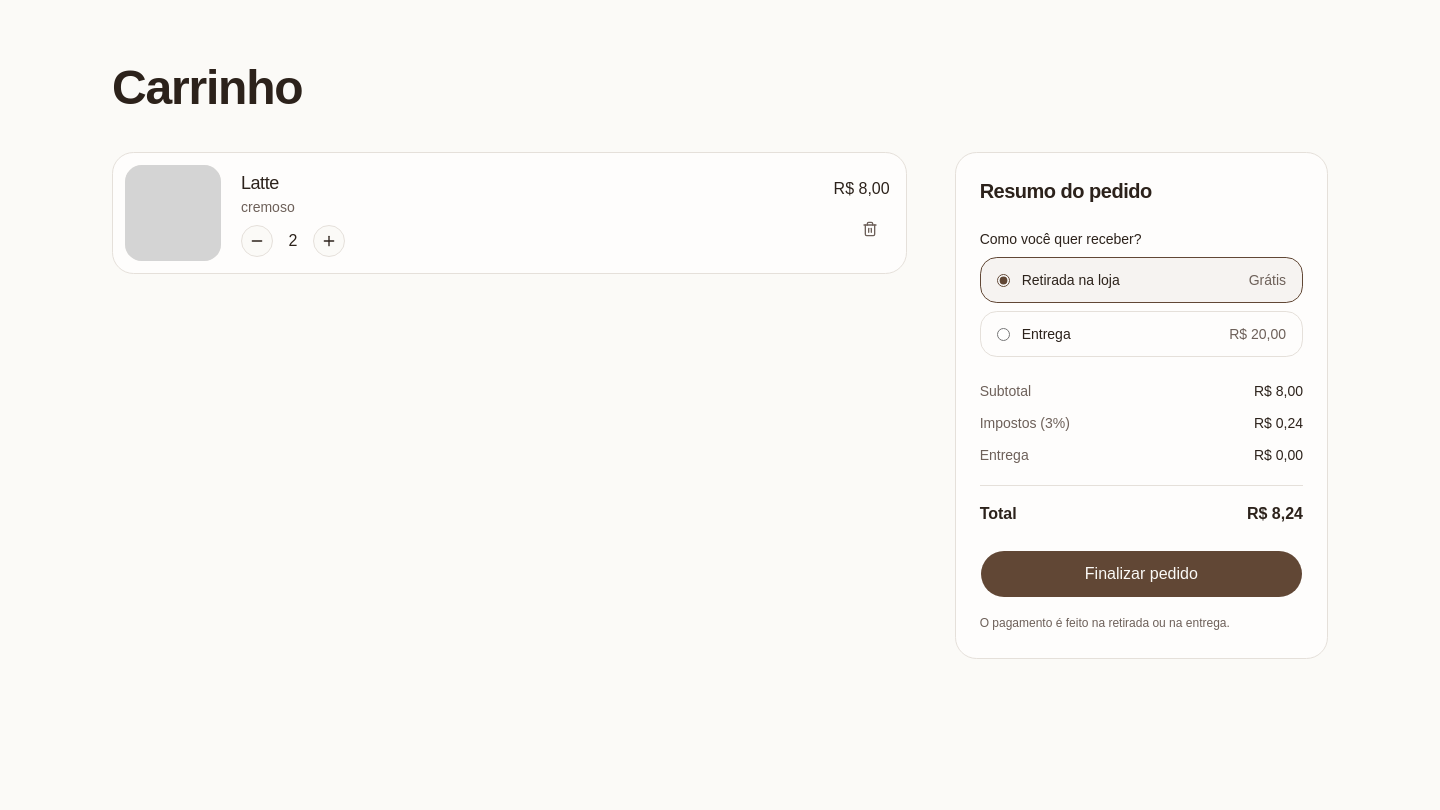
Scenario: Checkout › adds the delivery fee to the total when delivery is chosen
Expected: the heading "Latte" is shown, 241,173 -> 279,193
Click the radio button labelled "Entrega R$ 20,00". click: point(1003, 334)
box: 997,328 -> 1010,340
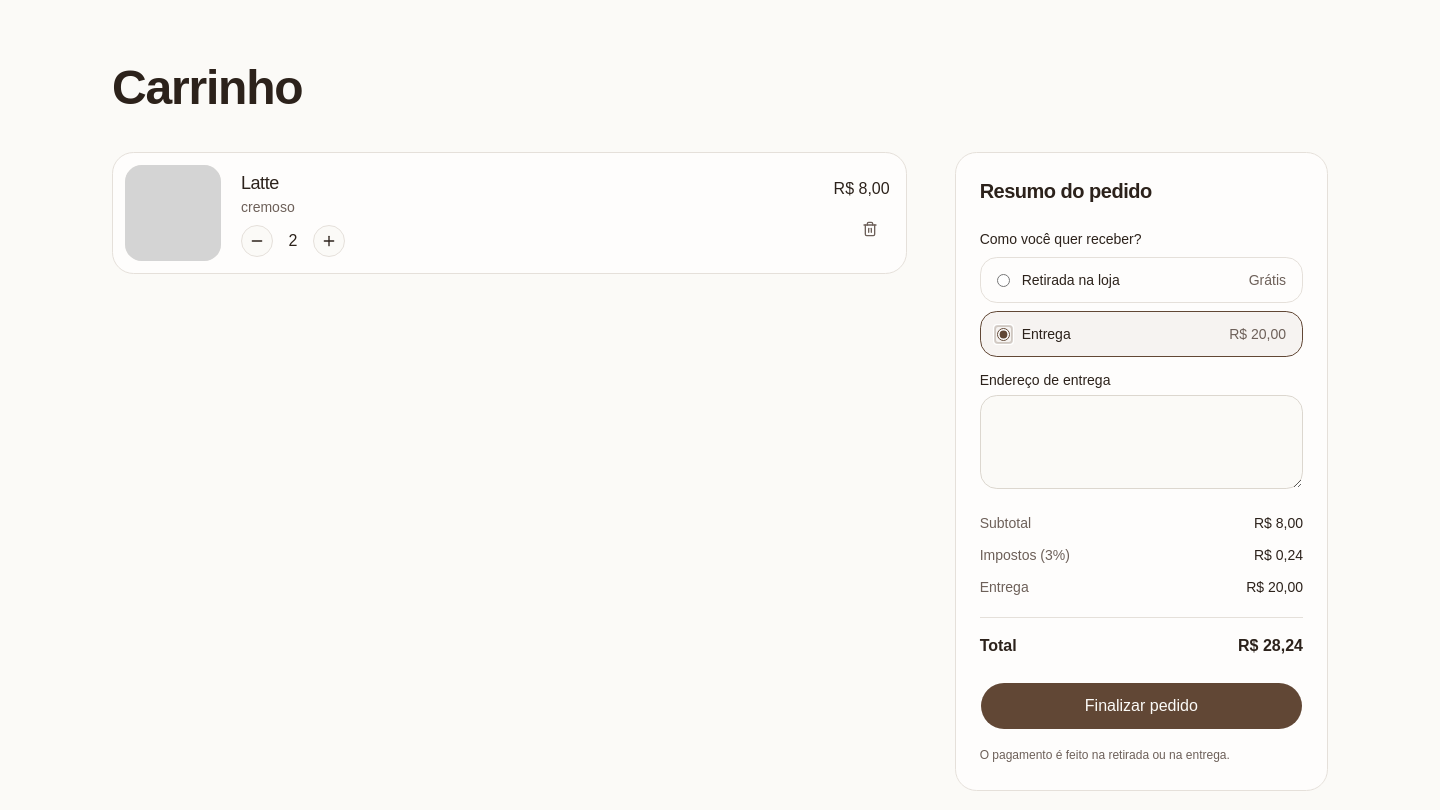
Expected: the text "R$ 28,24" is shown, 1238,634 -> 1303,658
Expected: the text box labelled "Endereço de entrega" is shown, 980,395 -> 1303,489
